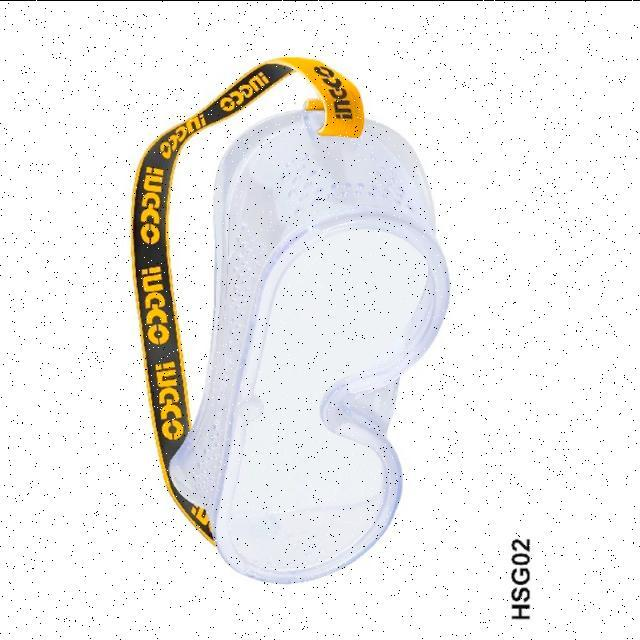Goggles: (113, 48, 448, 585)
